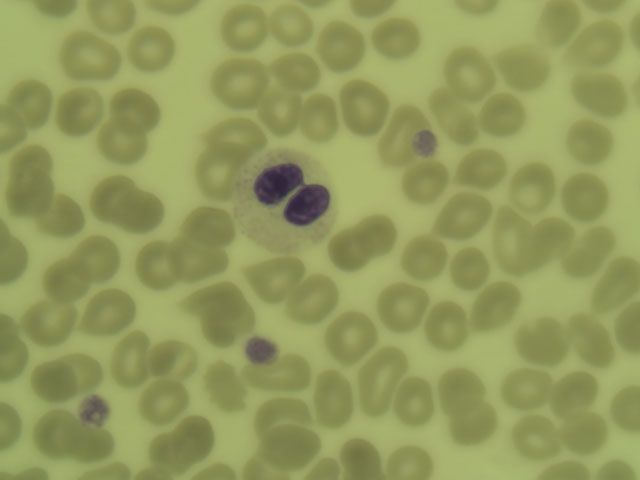Platelets: (249, 343, 273, 362), (417, 131, 435, 153)
RBC: (246, 155, 335, 247)
WBC: (356, 346, 402, 414), (160, 237, 225, 280), (145, 424, 216, 461), (195, 137, 238, 197), (566, 307, 611, 364), (490, 218, 540, 268), (314, 19, 366, 67), (436, 85, 488, 132), (220, 1, 268, 49), (62, 33, 116, 74), (183, 207, 231, 253), (10, 75, 55, 124), (312, 371, 353, 423), (443, 47, 486, 96), (574, 221, 613, 275), (212, 115, 267, 153), (347, 213, 392, 259), (378, 105, 413, 164), (31, 358, 75, 401), (24, 300, 68, 343), (328, 230, 372, 273), (288, 279, 332, 322), (326, 313, 370, 356), (255, 392, 299, 435), (262, 422, 306, 465), (204, 298, 248, 341), (193, 280, 237, 323), (253, 257, 297, 300), (129, 26, 173, 69), (57, 87, 101, 130), (112, 86, 156, 129), (100, 118, 144, 161), (118, 190, 162, 233), (90, 171, 134, 214), (6, 145, 50, 188), (6, 168, 50, 211), (39, 191, 83, 234), (31, 410, 75, 453), (140, 375, 184, 418), (151, 337, 195, 380), (136, 241, 180, 284), (83, 288, 127, 331), (73, 238, 117, 281), (46, 256, 90, 299), (424, 302, 468, 345), (448, 245, 492, 288), (402, 235, 446, 278), (379, 285, 423, 328), (441, 195, 485, 238), (472, 284, 516, 327), (518, 319, 562, 362), (504, 368, 548, 411), (449, 396, 493, 439), (437, 366, 481, 409), (388, 378, 432, 421), (292, 95, 336, 138), (341, 86, 385, 129), (572, 68, 616, 111), (568, 122, 612, 165), (477, 94, 521, 137), (515, 413, 559, 456), (560, 407, 604, 450), (552, 371, 596, 414), (596, 259, 640, 302), (528, 216, 572, 259), (566, 172, 610, 215), (511, 166, 555, 209), (276, 44, 320, 87), (387, 437, 431, 480), (338, 436, 382, 479), (255, 357, 299, 400), (202, 361, 246, 404), (213, 60, 257, 103), (461, 146, 505, 189), (401, 163, 445, 206), (579, 20, 623, 63), (534, 2, 578, 45), (502, 44, 546, 87), (375, 18, 419, 61), (271, 1, 315, 43), (87, 1, 134, 38), (64, 423, 118, 455), (111, 329, 142, 383), (608, 381, 640, 433), (95, 463, 183, 480), (613, 300, 640, 354), (1, 235, 27, 290), (1, 316, 22, 373), (543, 459, 597, 480), (1, 103, 27, 145), (1, 401, 22, 449), (450, 1, 499, 18)
